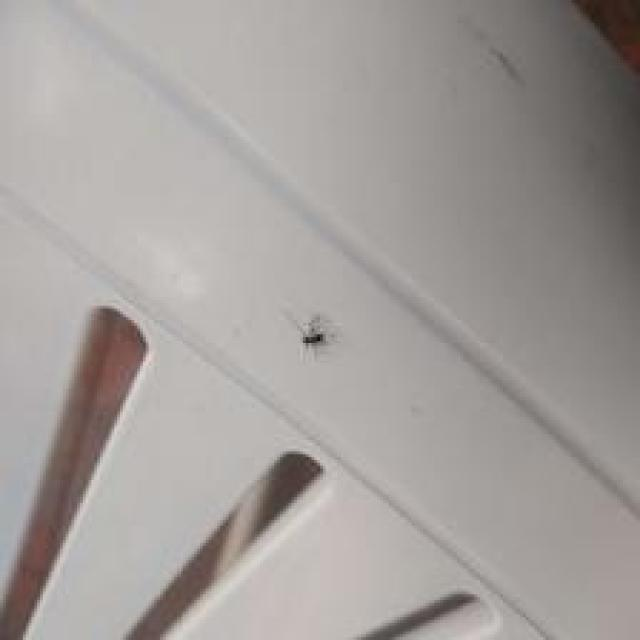Aedes albopictus: (293, 311, 338, 360)
